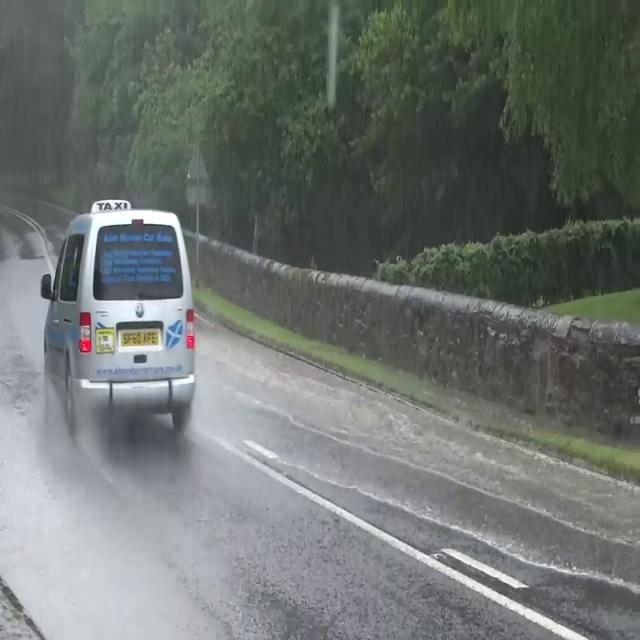license-plate-annotation: (119, 323, 159, 346)
